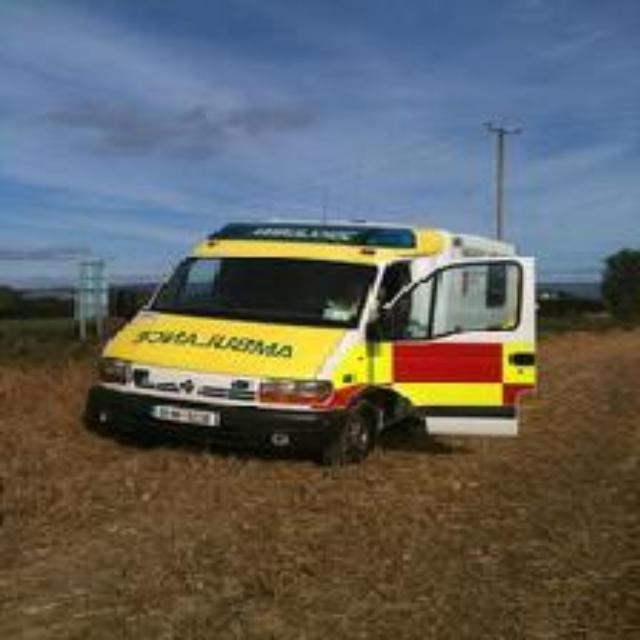emergency: (128, 210, 546, 462)
